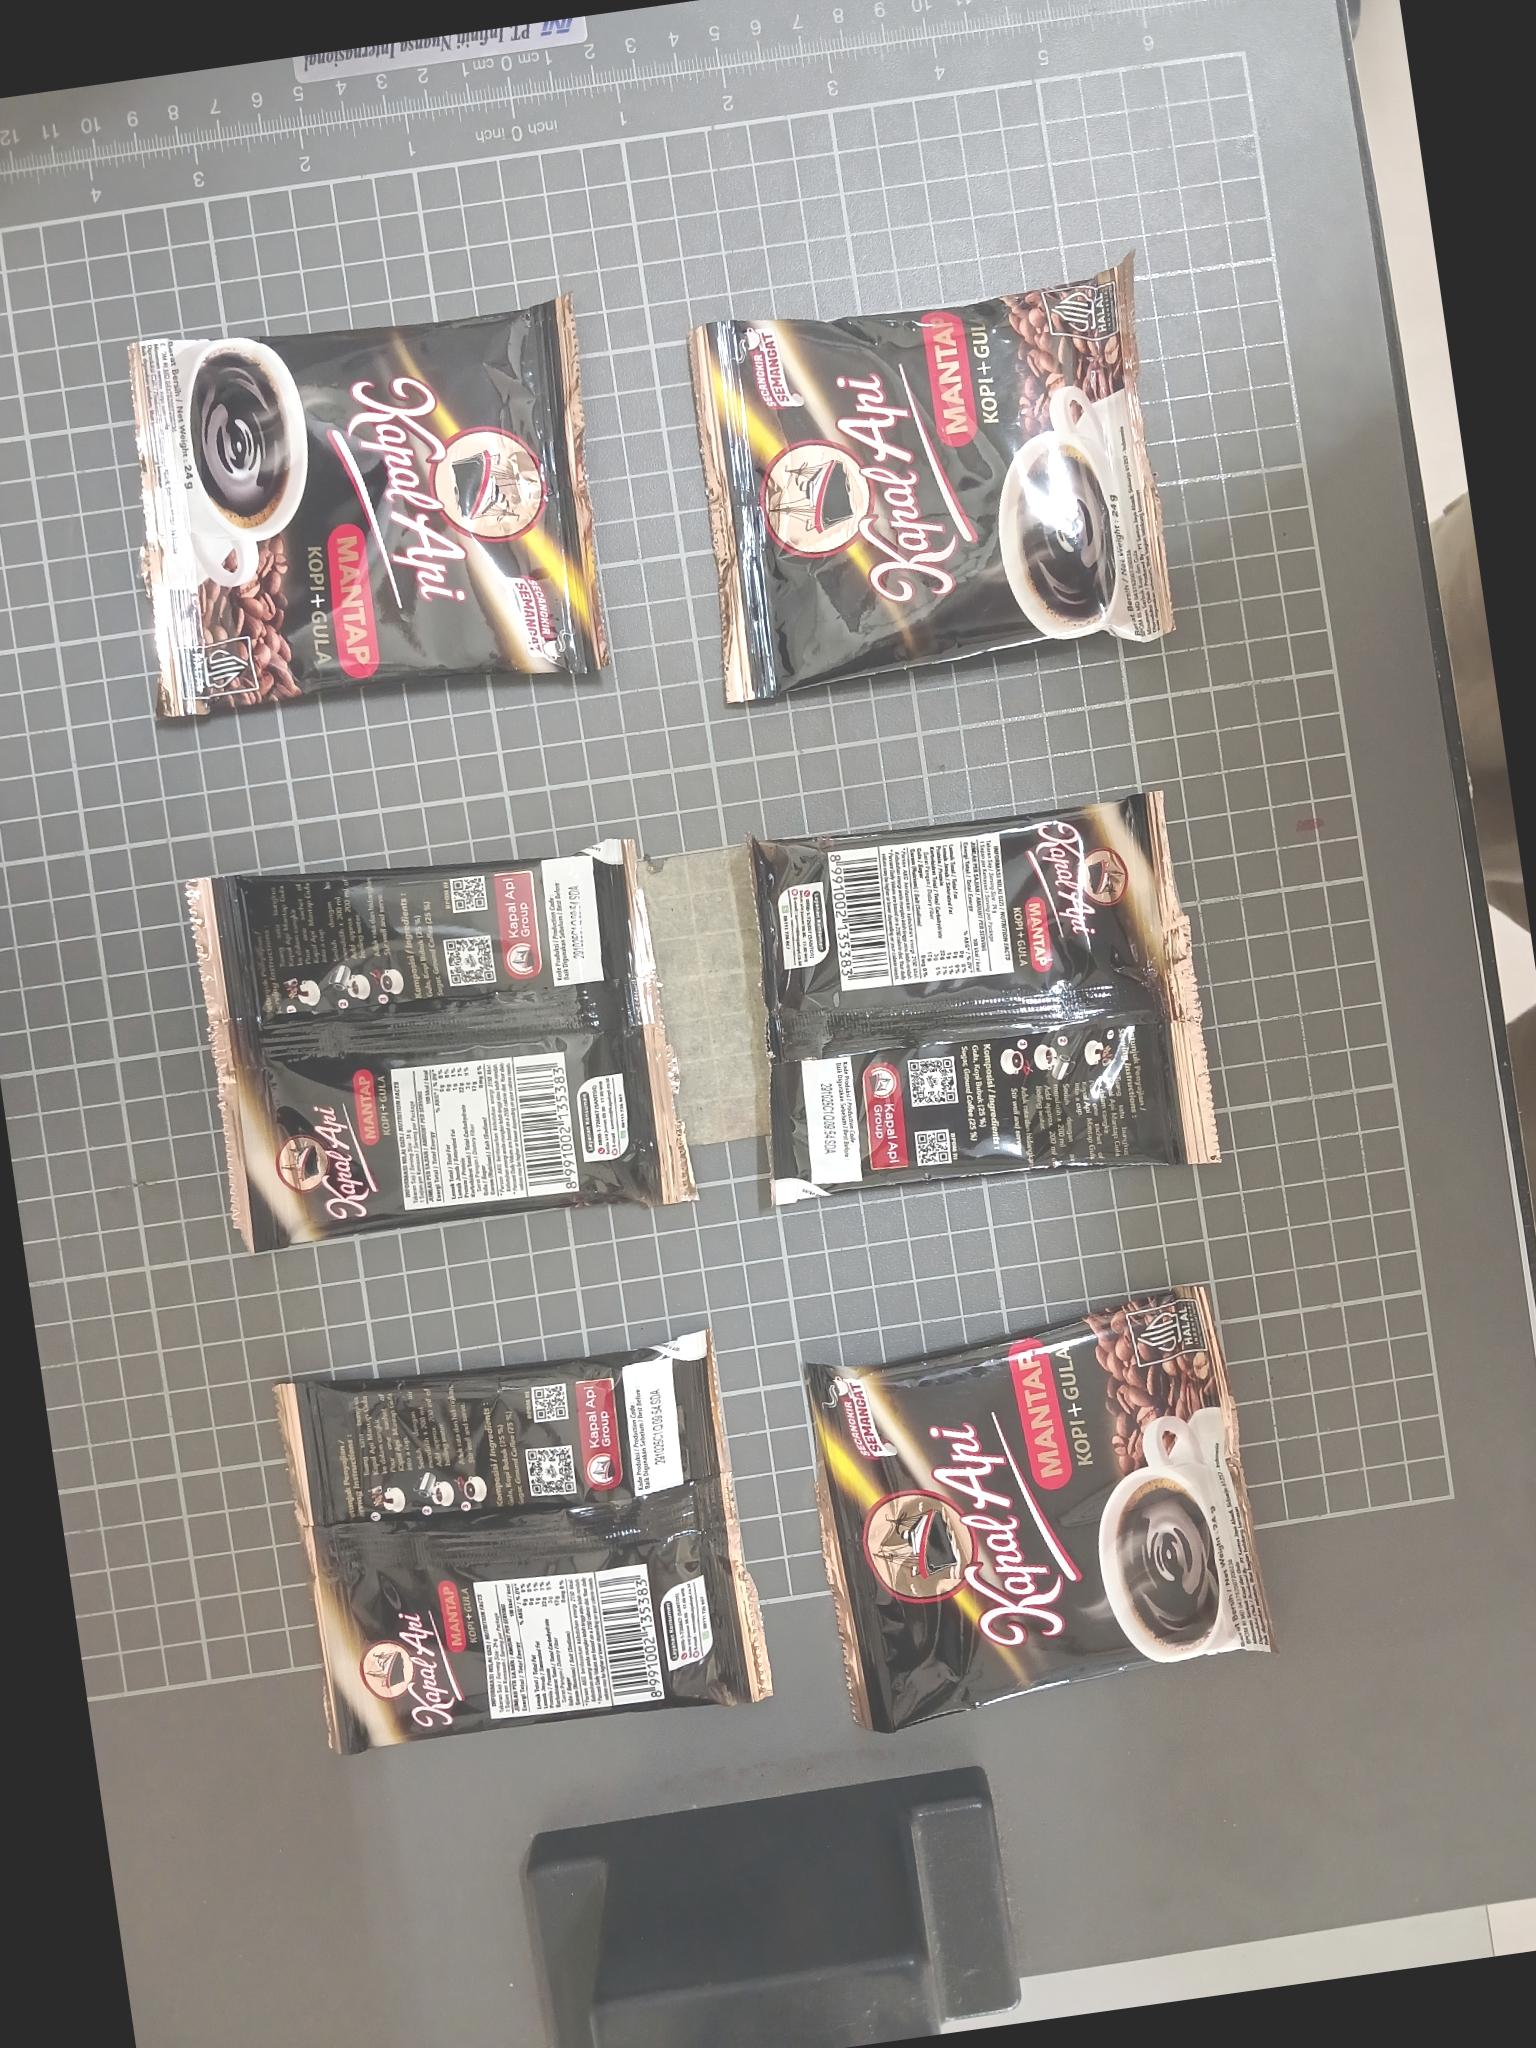back: (271, 1327, 774, 1756), (184, 835, 699, 1255), (744, 785, 1225, 1211)
front: (791, 1277, 1283, 1740), (679, 260, 1179, 708), (123, 293, 611, 719)
